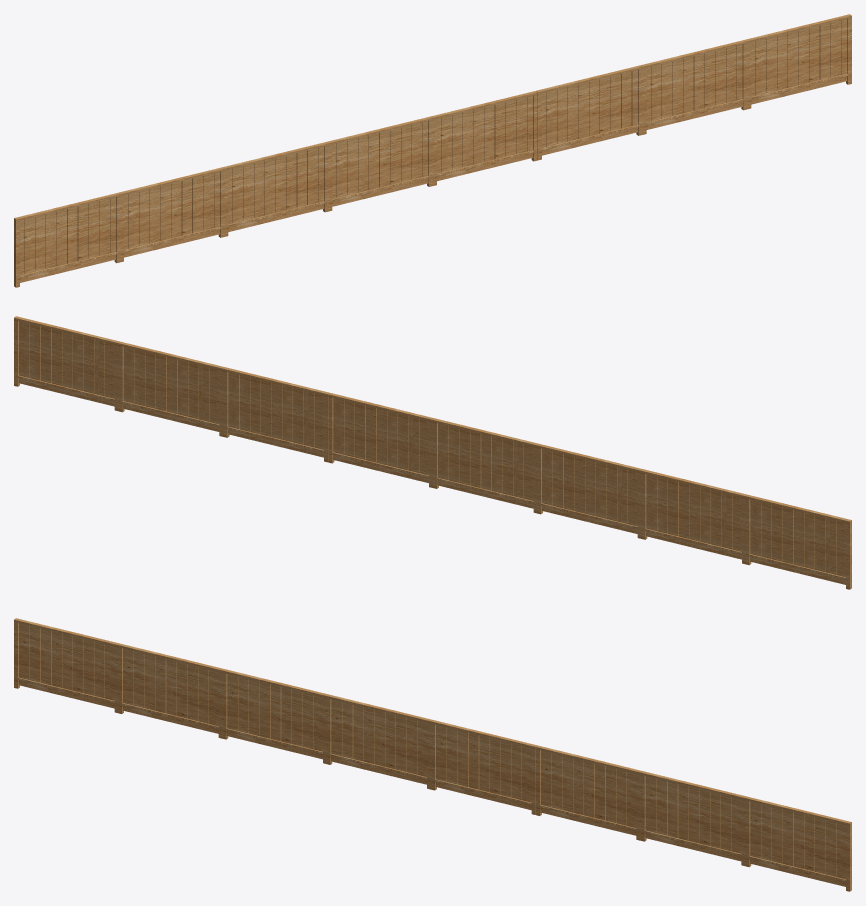
The model's file is RFrontFence.obj.
3 views of the same model, one above another, from view 1: azimuth 30°, elevation 25°; view 2: azimuth 150°, elevation 25°; view 3: azimuth 330°, elevation 25° (orthographic).
Visible parts, largest first — view 1: friendly_fence_v01_f1:friendly_fence_v01_f20:friendly_fence_v01_; view 2: friendly_fence_v01_f1:friendly_fence_v01_f20:friendly_fence_v01_; view 3: friendly_fence_v01_f1:friendly_fence_v01_f20:friendly_fence_v01_.
Boxes of the visible parts, box(x1,y1,x2,y2) form: friendly_fence_v01_f1:friendly_fence_v01_f20:friendly_fence_v01_: box(14, 14, 851, 287); friendly_fence_v01_f1:friendly_fence_v01_f20:friendly_fence_v01_: box(14, 316, 851, 589); friendly_fence_v01_f1:friendly_fence_v01_f20:friendly_fence_v01_: box(14, 618, 851, 891).
Size of the model in its own units: 70 by 5.46 by 0.3032.
